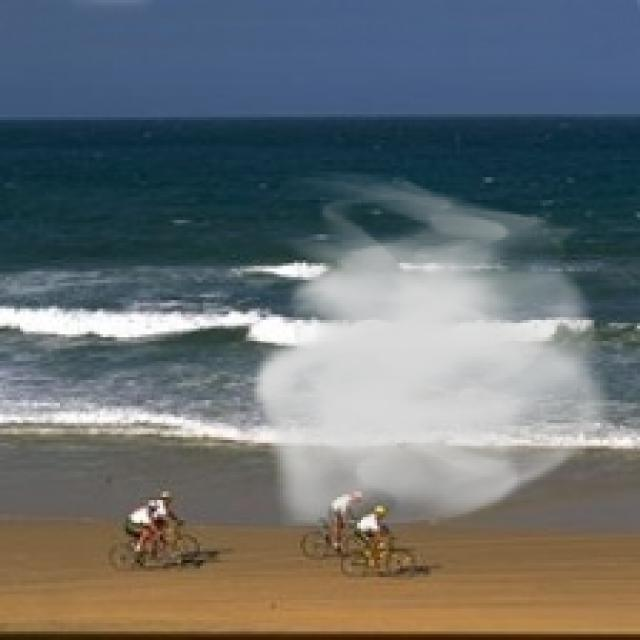smoke: (248, 169, 623, 537)
